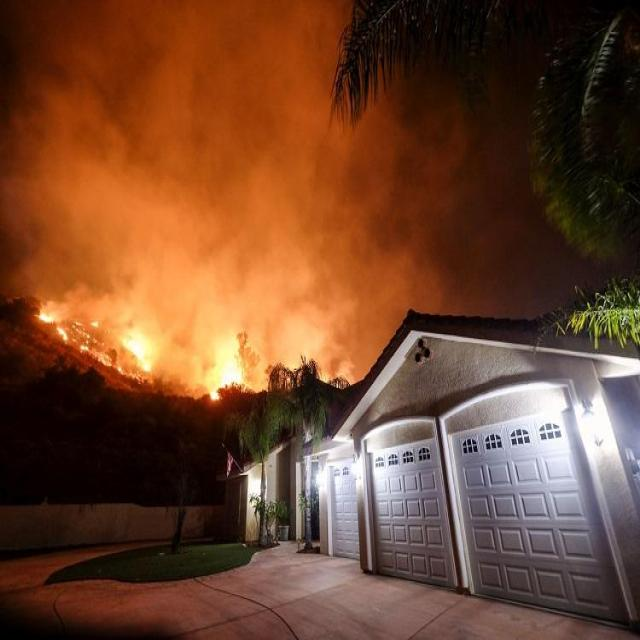Fire: (20, 282, 297, 401)
